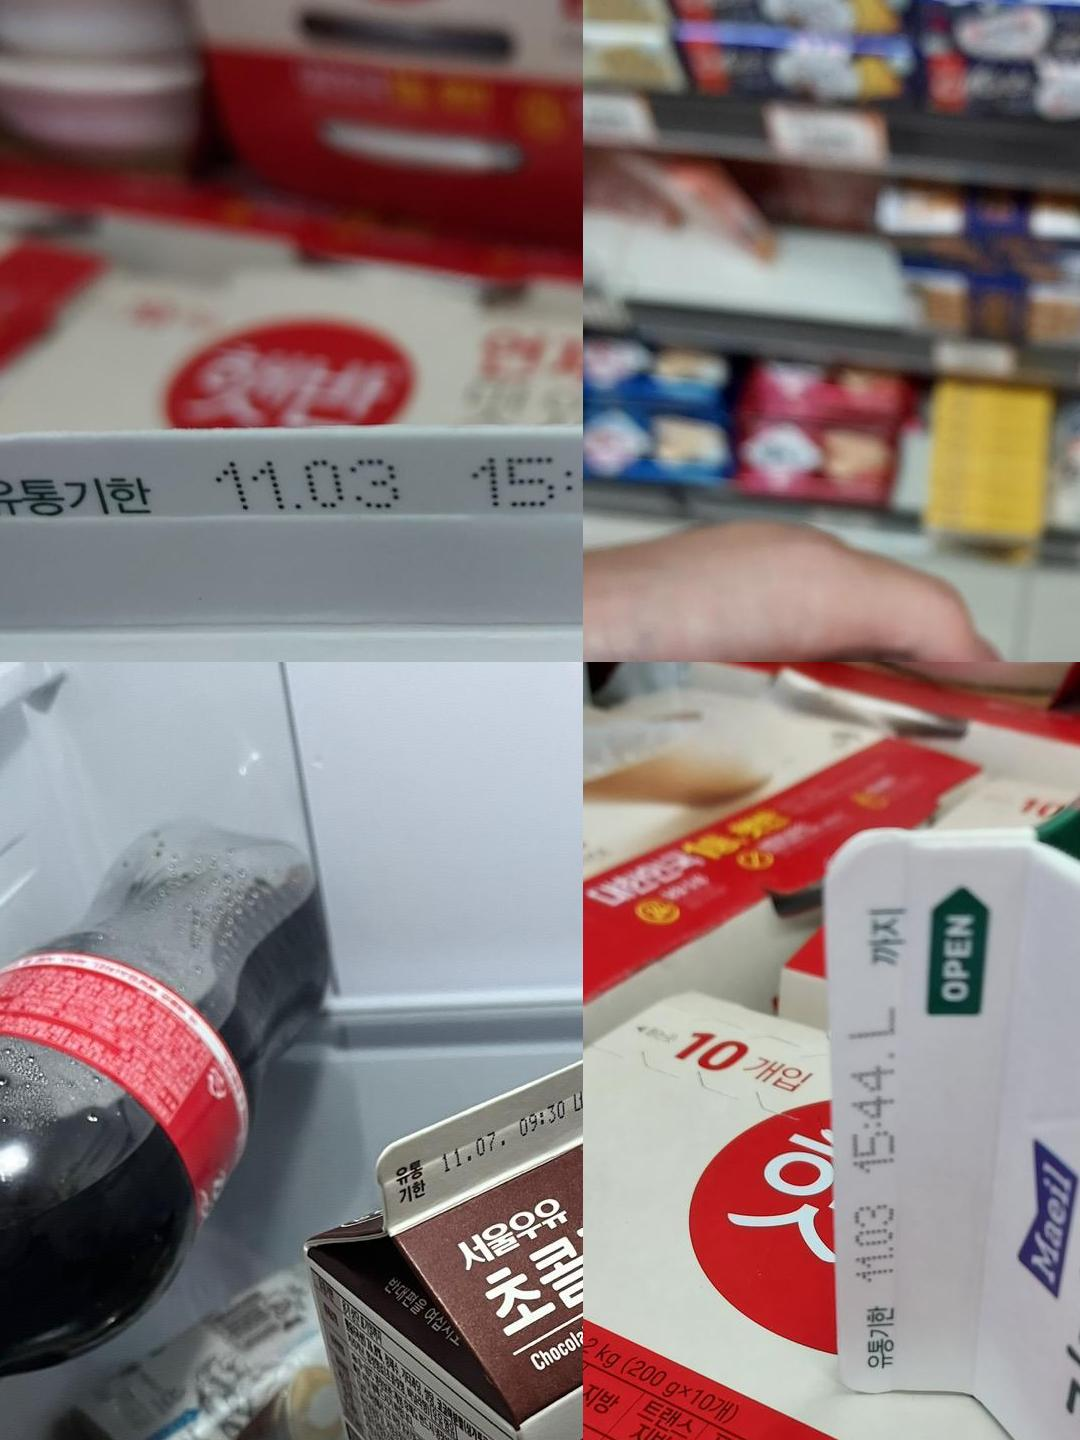milk: (0, 432, 583, 632), (822, 828, 999, 1394), (391, 1020, 583, 1225)
